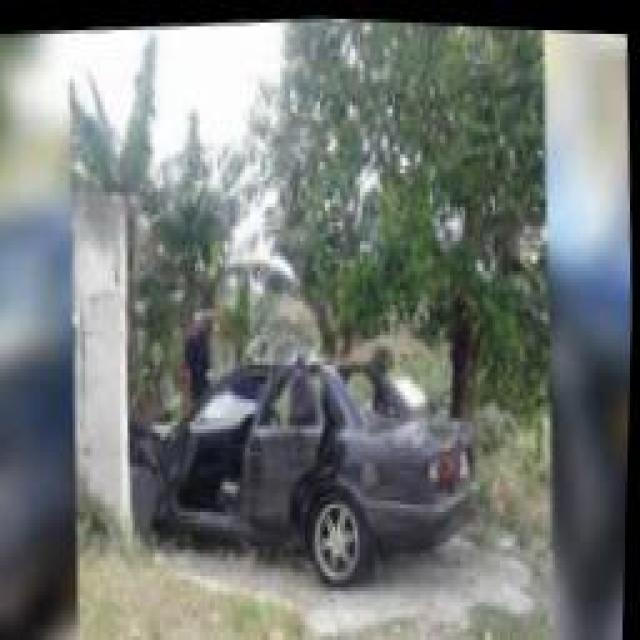Door: (170, 365, 262, 508)
